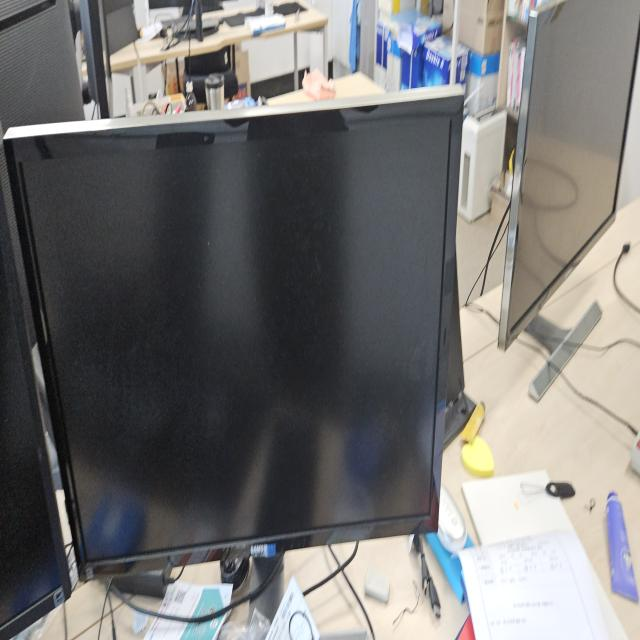Monitor: (4, 81, 469, 595)
